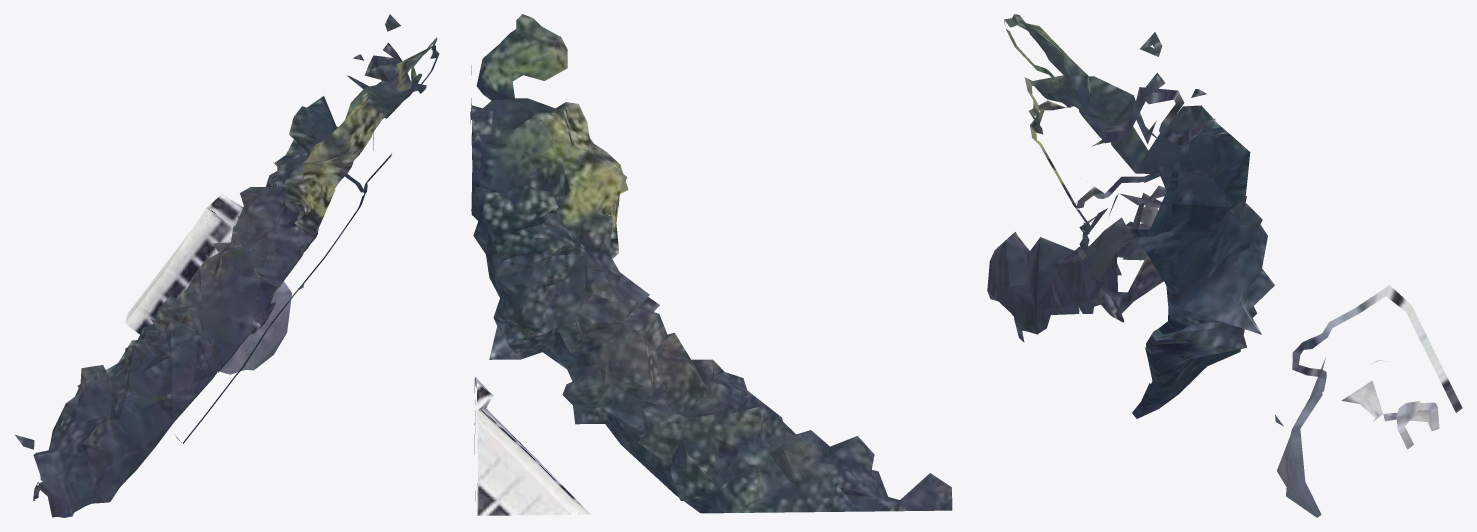
3 renders of one model, left to right at view 1: azimuth 30°, elevation 25°; view 2: azimuth 150°, elevation 25°; view 3: azimuth 270°, elevation 25°, orthographic. The views are drawn at different scales.
Bounding box in the file's own units: 38.43 × 33.23 × 25.76.
1 material, 1 textured.
